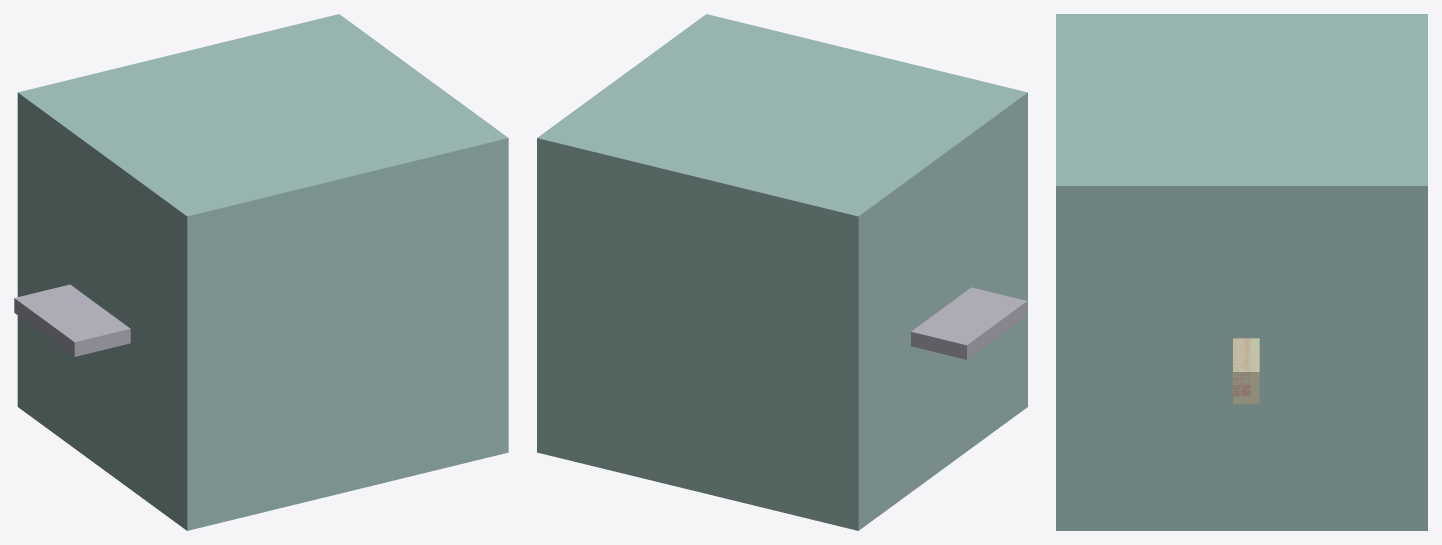
Rendered from bboxes_vis.glb.
3 renders of one model, left to right at view 1: azimuth 30°, elevation 25°; view 2: azimuth 150°, elevation 25°; view 3: azimuth 270°, elevation 25°, orthographic. The views are drawn at different scales.
Parts seen in each view (by area): view 1: world; view 2: world; view 3: world.
Boxes of the visible parts, <box> form: world: <box>14,14,508,530</box>; world: <box>537,14,1027,530</box>; world: <box>1056,14,1427,530</box>.
Size of the model in its own units: 1 by 0.6825 by 0.6667.
